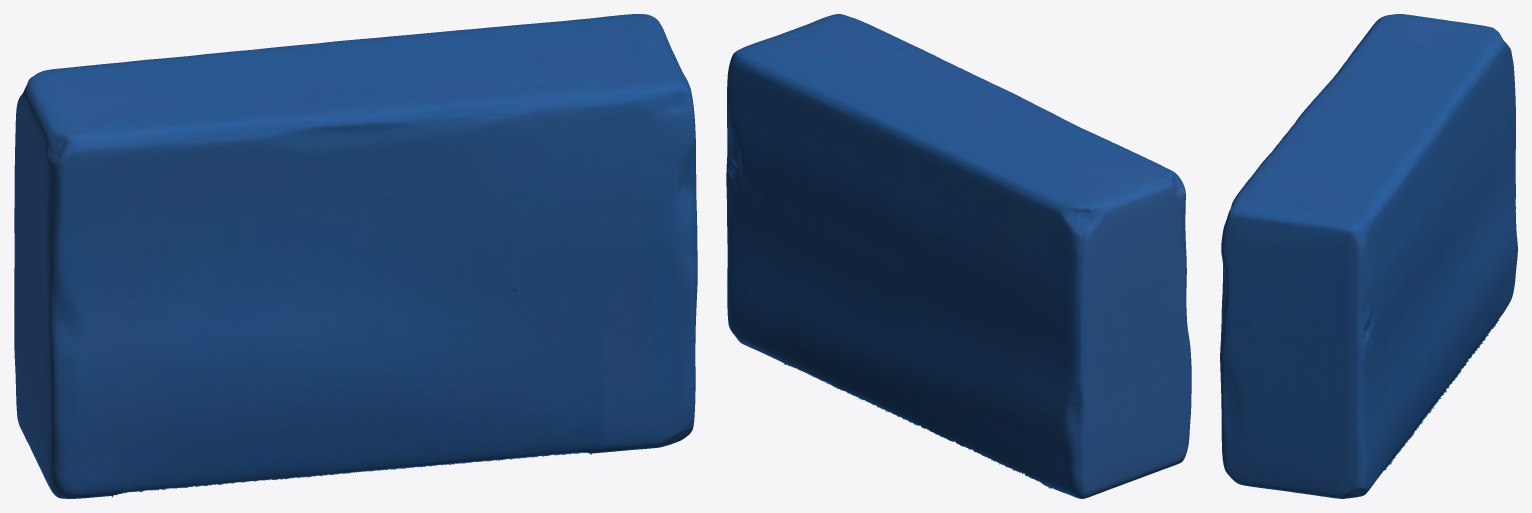
Rendered from block_03.glb.
The picture shows the model from 3 angles, left to right: view 1: azimuth 30°, elevation 25°; view 2: azimuth 150°, elevation 25°; view 3: azimuth 270°, elevation 25°; orthographic projection. The views are drawn at different scales.
Parts seen in each view (by area): view 1: block_03; view 2: block_03; view 3: block_03.
Boxes of the visible parts, x1=… form: block_03: x1=14, y1=14, x2=697, y2=498; block_03: x1=726, y1=14, x2=1191, y2=498; block_03: x1=1220, y1=14, x2=1517, y2=498.
Bounding box in the file's own units: 0.3696 × 0.218 × 0.2101.
Materials: 1 (1 with a texture image).
